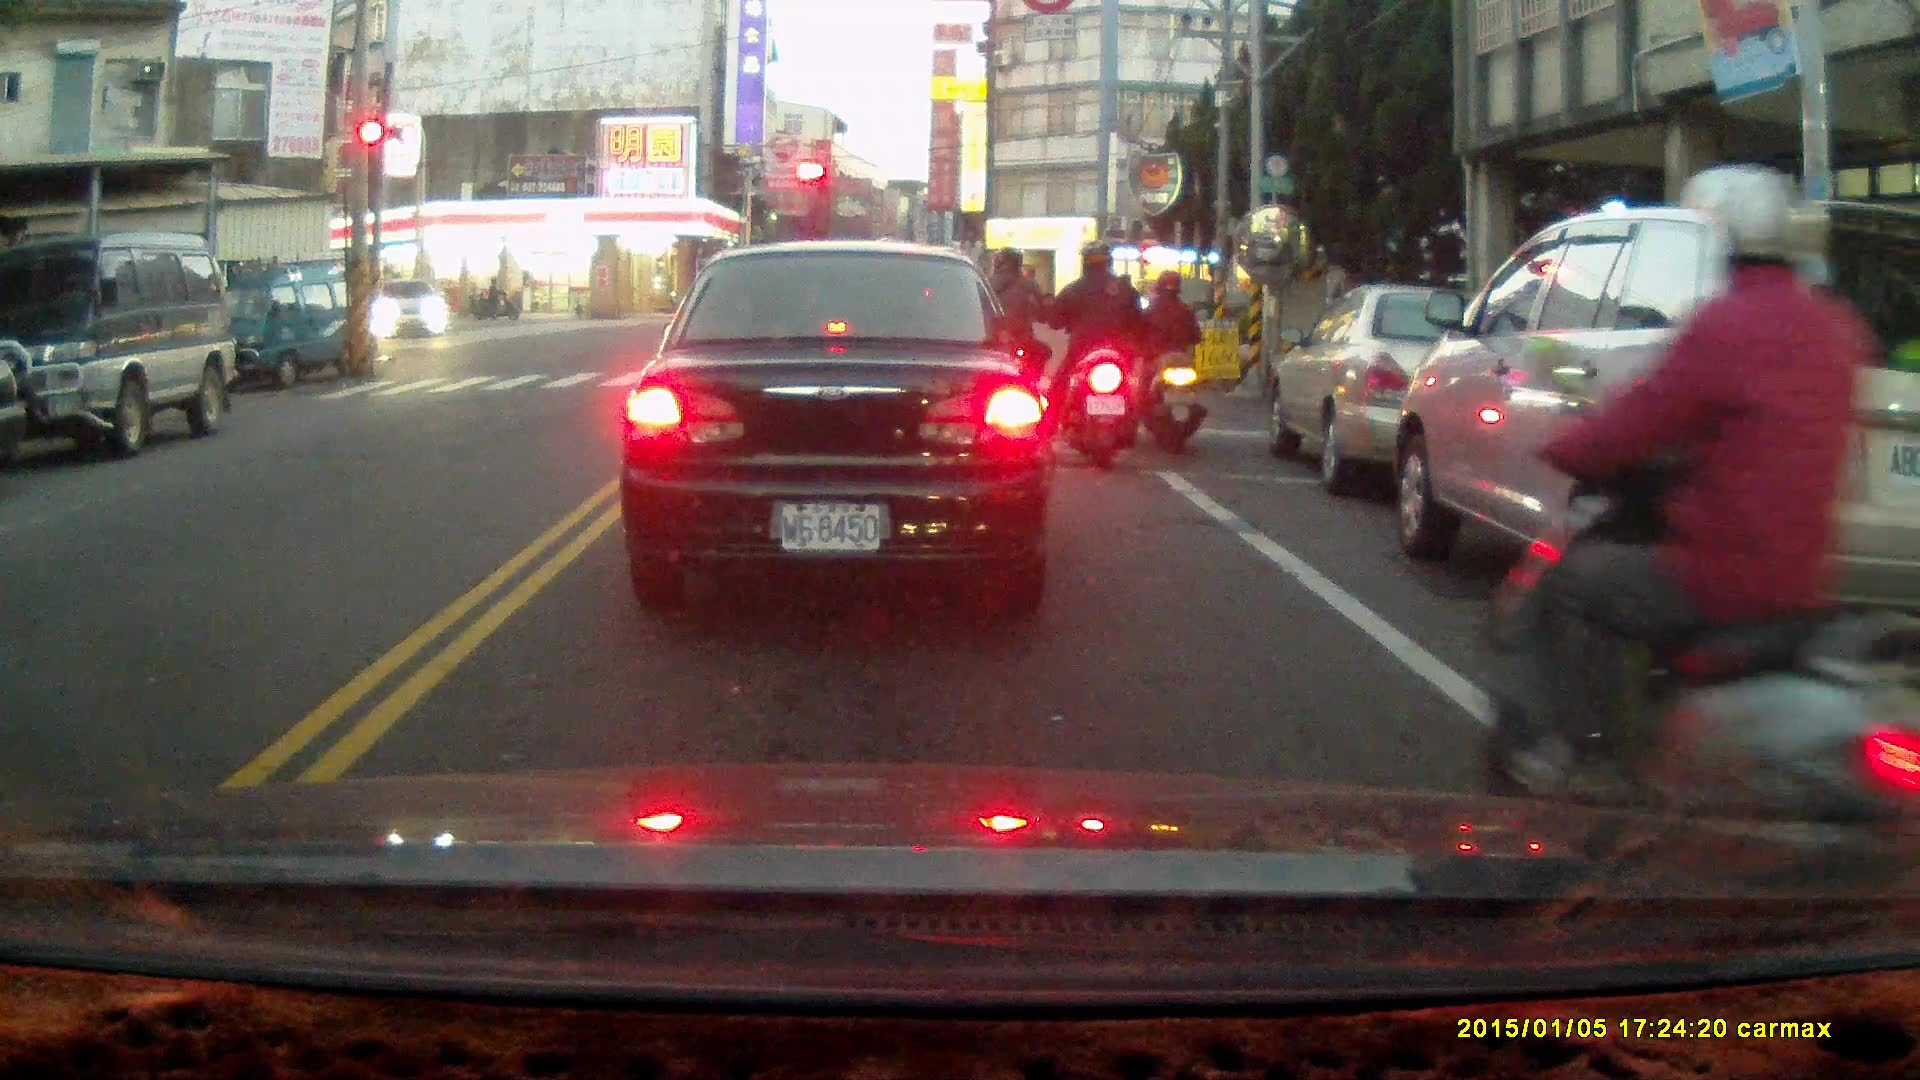rider: (1482, 161, 1919, 892), (1048, 242, 1141, 468), (960, 240, 1057, 430), (1135, 270, 1205, 451), (472, 278, 516, 318)
vehicle: (1389, 205, 1915, 699), (617, 243, 1061, 606), (1269, 285, 1590, 496), (1, 234, 239, 458), (192, 257, 378, 393), (372, 277, 451, 343)
